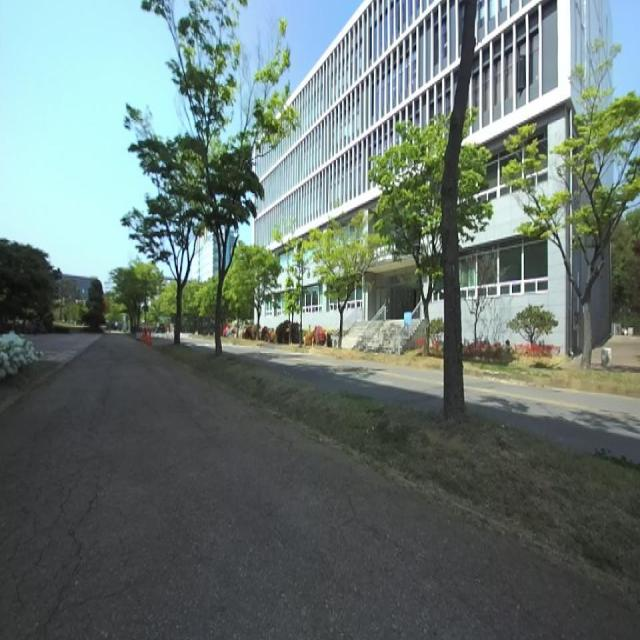sidewalk: (0, 336, 640, 639)
